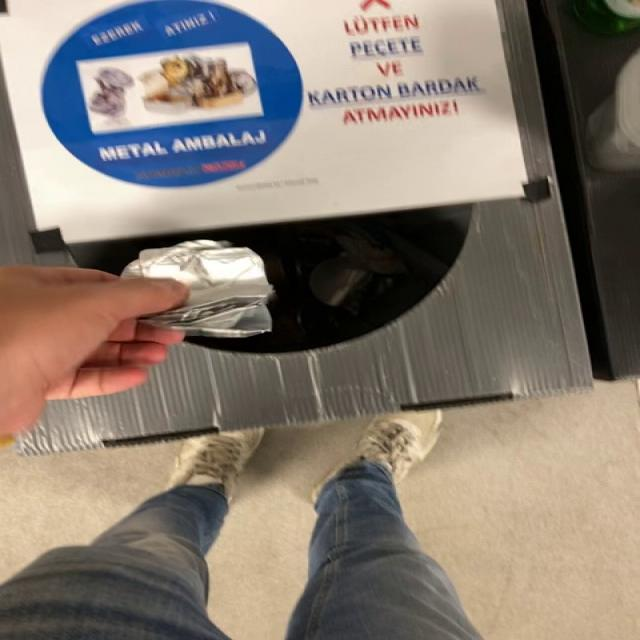bin: (1, 0, 591, 454)
metal: (121, 240, 273, 338)
